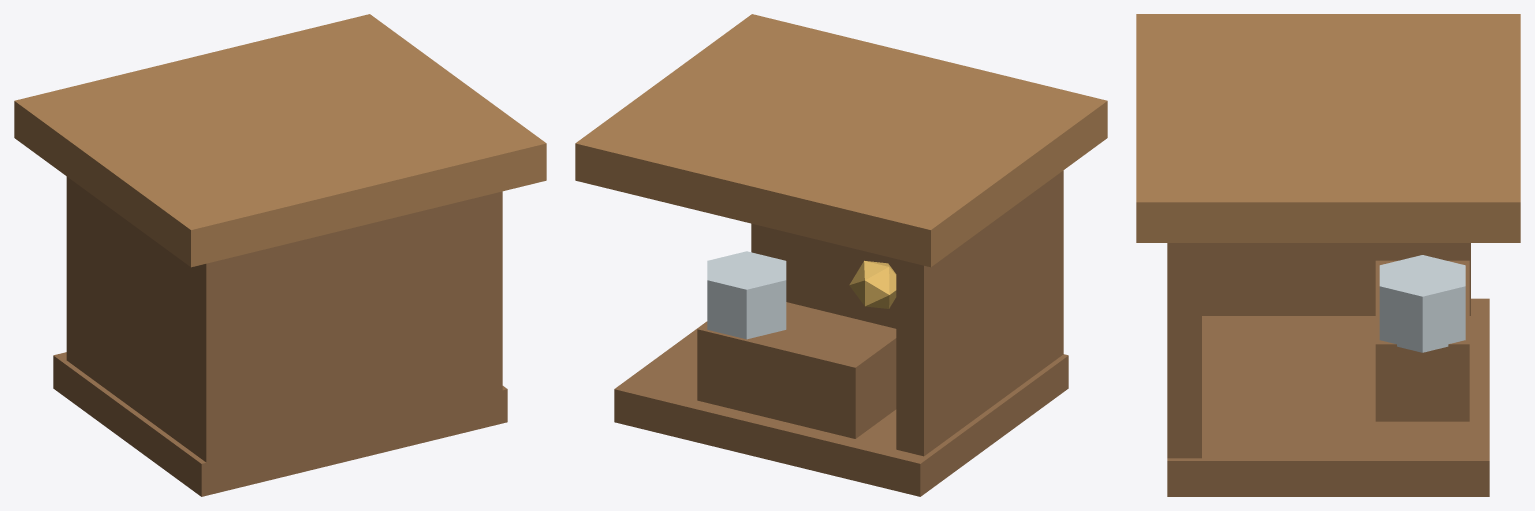
Rendered from building_workshop.glb.
The picture shows the model from 3 angles, left to right: view 1: azimuth 30°, elevation 25°; view 2: azimuth 150°, elevation 25°; view 3: azimuth 270°, elevation 25°; orthographic projection. The views are drawn at different scales.
Visible parts, largest first — view 1: roof, back_wall, left_wall, floor; view 2: roof, left_wall, floor, bench, back_wall, anvil, lantern; view 3: roof, floor, left_wall, bench, anvil, back_wall.
Part boxes in pixels (left/top/right/bottom): roof: left=14, top=14, right=546, bottom=267; back_wall: left=190, top=191, right=502, bottom=475; left_wall: left=66, top=176, right=190, bottom=450; floor: left=53, top=352, right=507, bottom=496; roof: left=575, top=14, right=1107, bottom=267; left_wall: left=896, top=176, right=1055, bottom=456; floor: left=614, top=302, right=1068, bottom=496; bench: left=697, top=308, right=896, bottom=438; back_wall: left=751, top=170, right=1063, bottom=364; anvil: left=707, top=251, right=786, bottom=339; lantern: left=849, top=260, right=896, bottom=308; roof: left=1136, top=14, right=1520, bottom=242; floor: left=1167, top=298, right=1489, bottom=496; left_wall: left=1202, top=243, right=1470, bottom=315; bench: left=1375, top=260, right=1469, bottom=421; anvil: left=1379, top=255, right=1465, bottom=352; back_wall: left=1167, top=243, right=1201, bottom=458.
Bounding box in the file's own units: 1.8 × 1.37 × 1.55.
